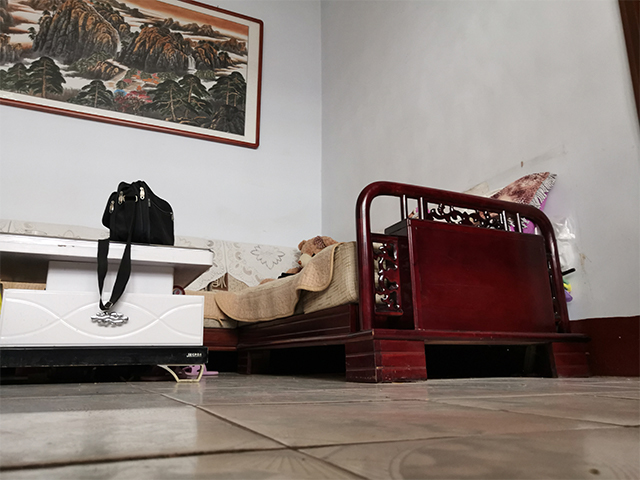slippers: (182, 363, 219, 377)
sofa: (183, 165, 592, 384)
table: (1, 230, 217, 384)
